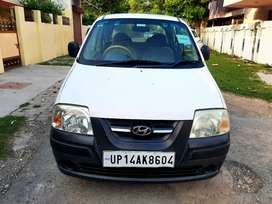UP14AK8604: (102, 151, 174, 168)
